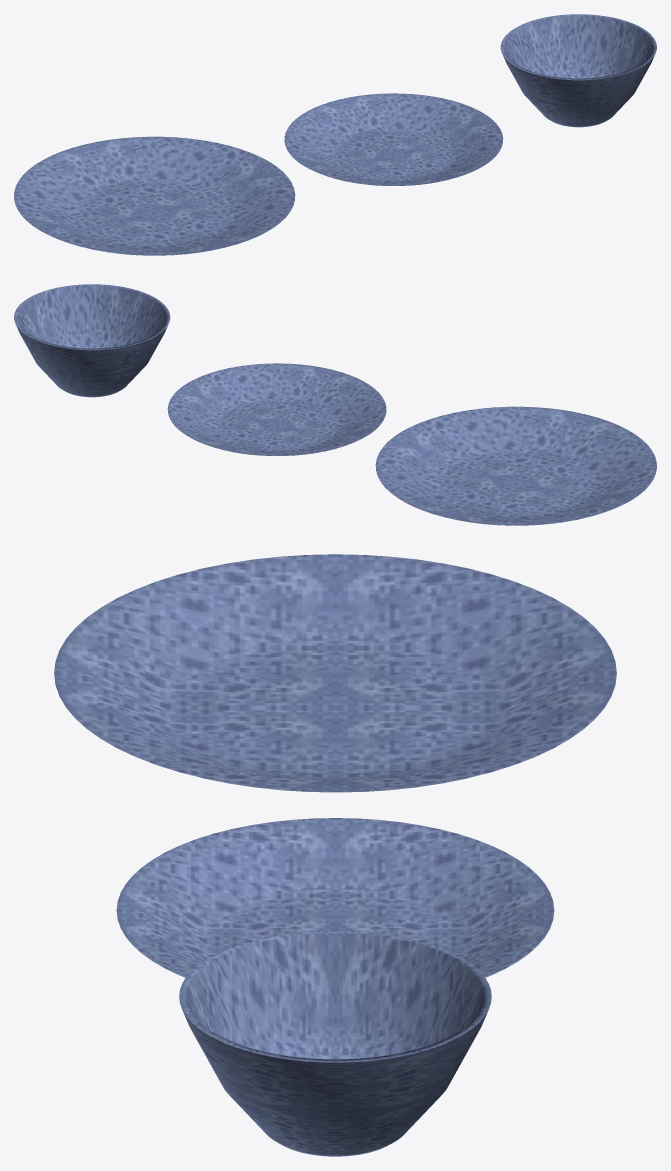
3 renders of one model, top to bottom at view 1: azimuth 30°, elevation 25°; view 2: azimuth 150°, elevation 25°; view 3: azimuth 270°, elevation 25°, orthographic. The views are drawn at different scales.
Bounding box in the file's own units: 0.68 × 0.07 × 0.27.
6 materials, 6 textured.
